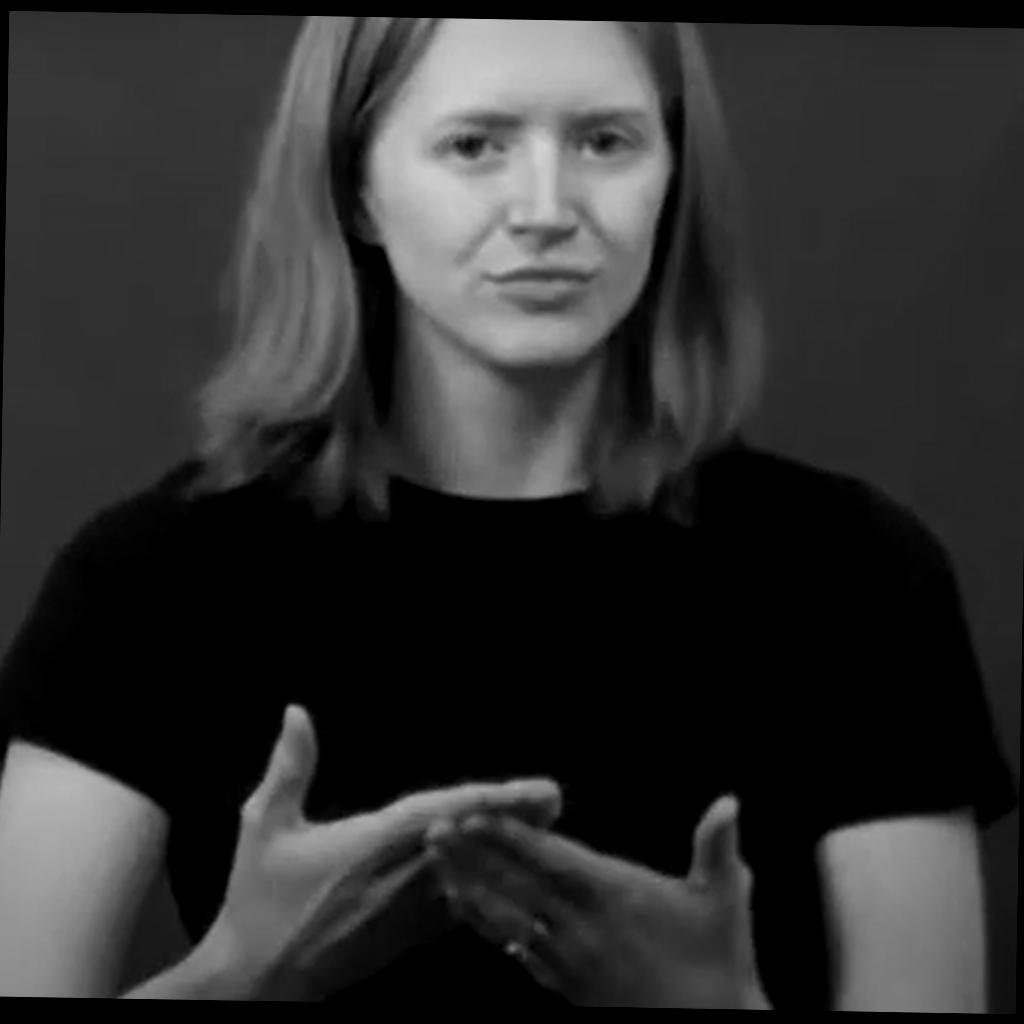good: (221, 704, 763, 1010)
